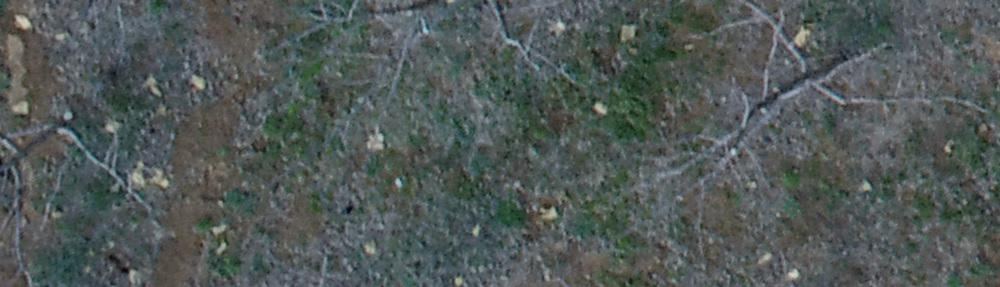apple: (627, 10, 965, 216), (303, 10, 558, 93)
